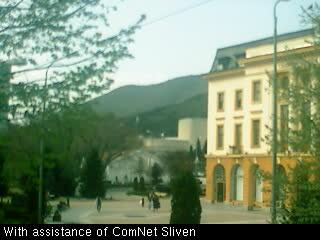person: (151, 193, 160, 210), (94, 194, 102, 212), (140, 196, 146, 208), (66, 196, 71, 209)
